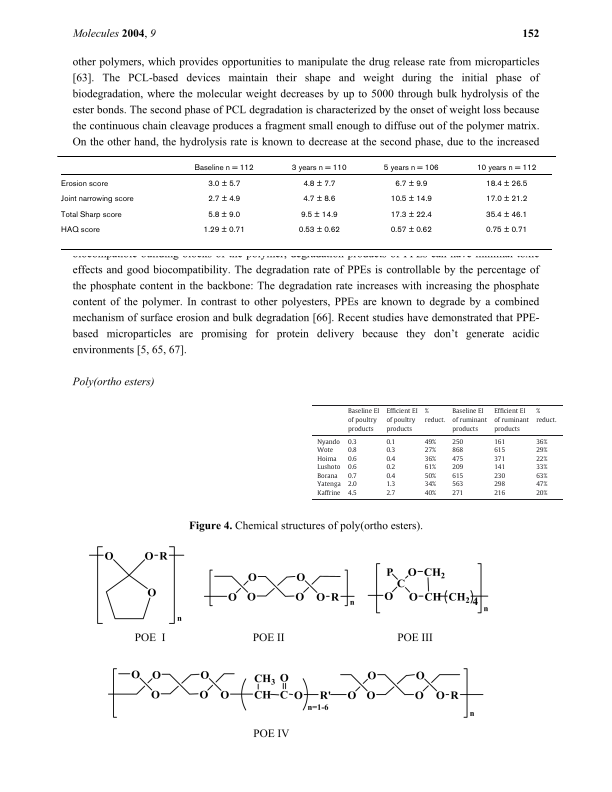borderless: (56, 154, 552, 249), (311, 403, 563, 499)
cell: (451, 408, 488, 433), (493, 408, 530, 433), (347, 408, 380, 433), (386, 408, 419, 433), (59, 195, 134, 205), (59, 210, 122, 220), (475, 163, 537, 173), (193, 163, 254, 173), (290, 163, 347, 173), (382, 163, 439, 173), (59, 179, 108, 189), (484, 179, 528, 189), (484, 195, 528, 205), (484, 210, 528, 220), (484, 226, 528, 236), (389, 195, 432, 205), (389, 210, 432, 220), (202, 226, 245, 236), (297, 226, 340, 236), (389, 226, 432, 236), (59, 226, 100, 236), (299, 210, 338, 220), (535, 408, 558, 424), (424, 408, 446, 424), (207, 179, 241, 189), (302, 179, 336, 189), (394, 179, 428, 189), (207, 195, 241, 205), (302, 195, 336, 205), (207, 210, 241, 220), (316, 489, 342, 498), (316, 463, 341, 472), (316, 481, 342, 489), (316, 438, 341, 446), (316, 472, 339, 480), (316, 455, 338, 463), (316, 446, 334, 455), (424, 446, 437, 455), (451, 446, 464, 455), (493, 446, 506, 455), (535, 446, 548, 455), (424, 463, 437, 472), (451, 463, 464, 472), (493, 463, 506, 472), (535, 463, 548, 472), (424, 489, 437, 498), (451, 489, 464, 498), (493, 489, 506, 498), (535, 489, 548, 498), (424, 438, 437, 446), (451, 438, 464, 446), (493, 438, 506, 446), (535, 438, 548, 446), (424, 455, 437, 463), (451, 455, 464, 463), (493, 455, 506, 463), (535, 455, 548, 463), (424, 472, 437, 480), (451, 472, 464, 480), (493, 472, 506, 480), (535, 472, 548, 480), (424, 481, 437, 489), (451, 481, 464, 489), (493, 481, 506, 489), (535, 481, 548, 489), (347, 446, 358, 455), (347, 463, 358, 472), (347, 489, 358, 498), (386, 446, 396, 455), (386, 463, 396, 472), (386, 489, 396, 498), (347, 438, 358, 446), (347, 455, 358, 463), (347, 472, 358, 480), (347, 481, 358, 489), (386, 438, 396, 446), (386, 455, 396, 463), (386, 472, 396, 480), (386, 481, 396, 489)
